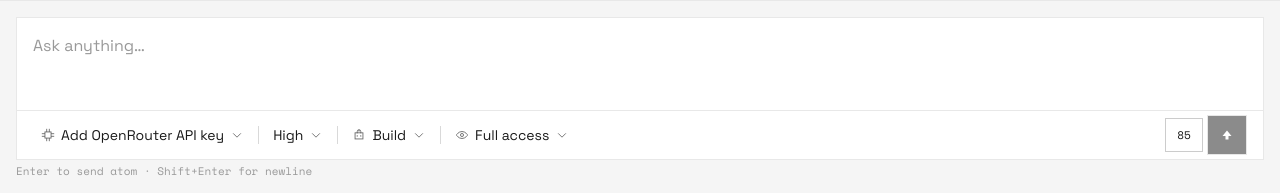
Test: WorkspaceComposer › opens only one dropdown at a time
Click the button "Add OpenRouter API key" at (143, 135), box [33,119,252,151]
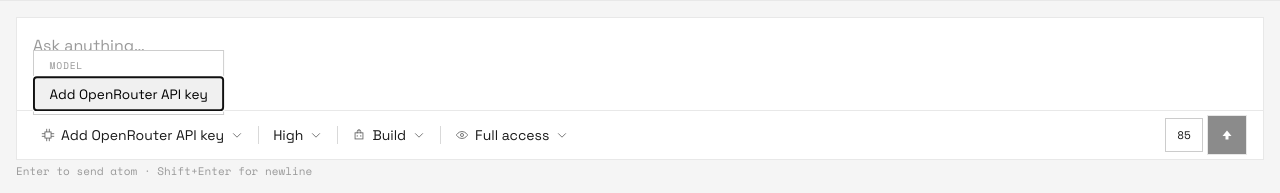
Expected: the list "Model" is shown, [33,50,224,115]
Click the button "High" at (298, 135), box [265,119,331,151]
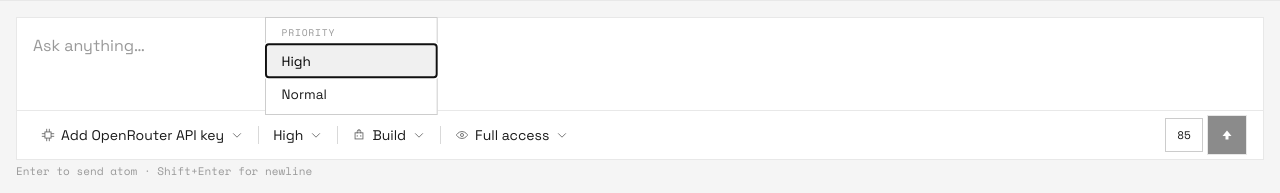
Expected: the text "Model" is gone
Expected: the list "Priority" is shown, [265,17,438,115]
